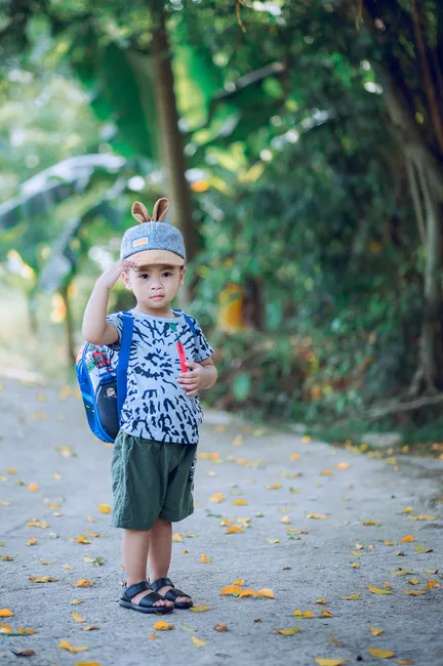face: (130, 264, 181, 308)
